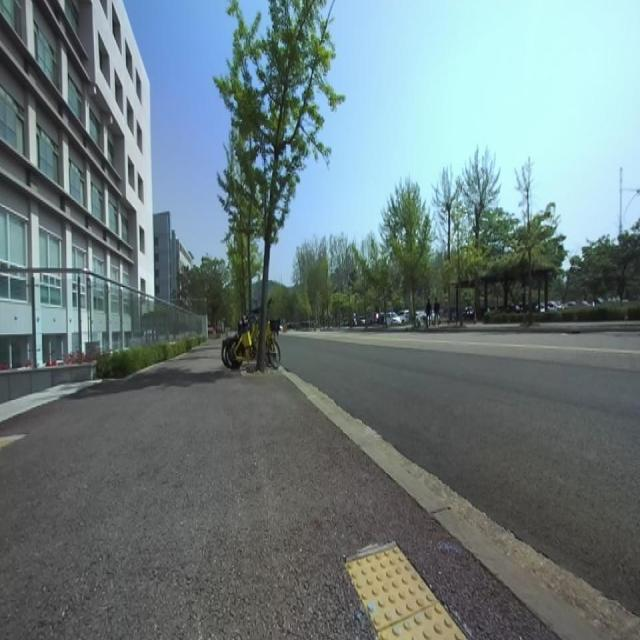sidewalk: (0, 341, 554, 639)
